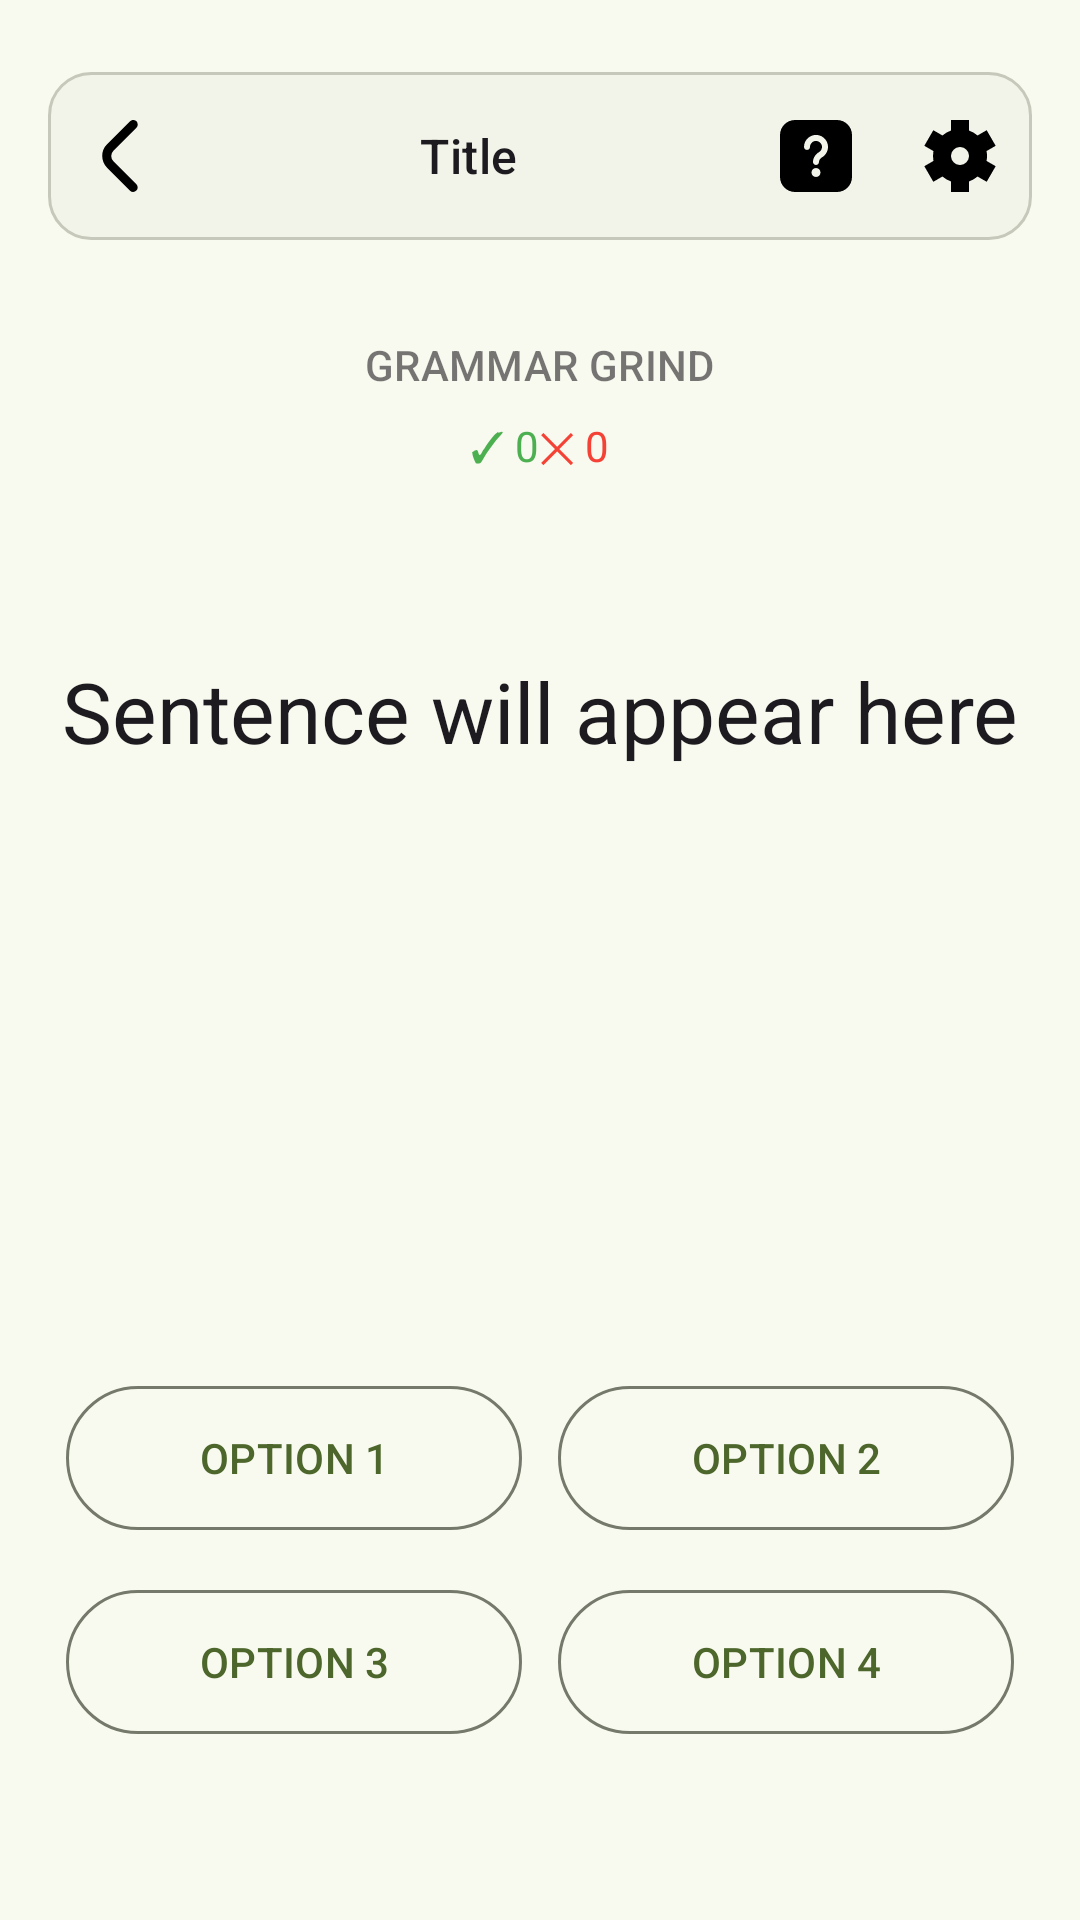

Locate icon controls on the screen. Image size 1080*1920, boxes as (x1, y1, x2, y2).
Back button: (102, 120, 138, 192)
Hints: (780, 120, 852, 192)
Options: (924, 120, 996, 192)
